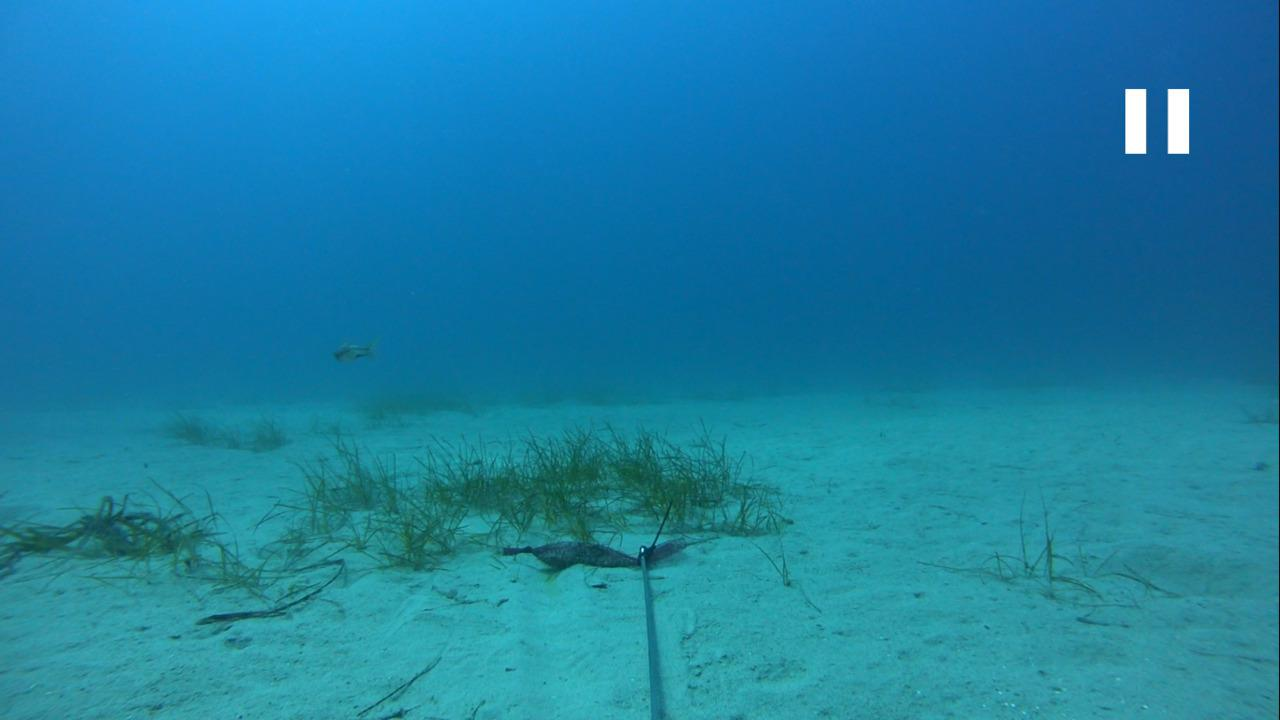dactylopterus: (321, 333, 381, 367)
